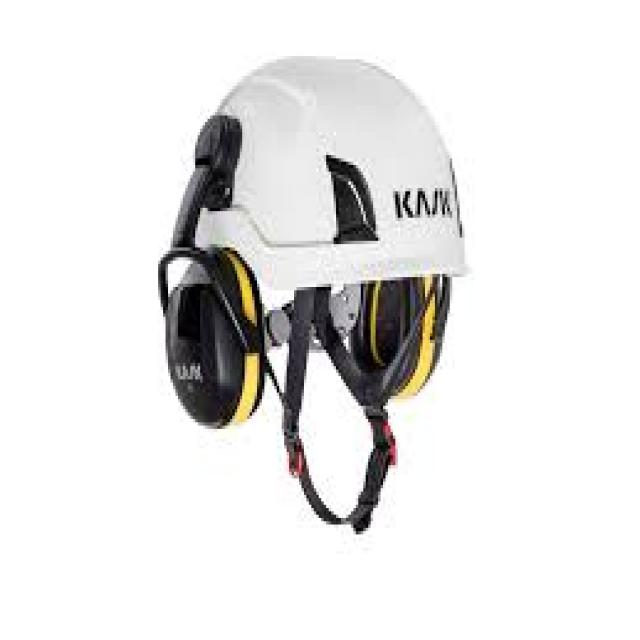Ear-protection: (158, 241, 265, 429), (410, 274, 442, 399)
head_helmet: (183, 49, 472, 294)
